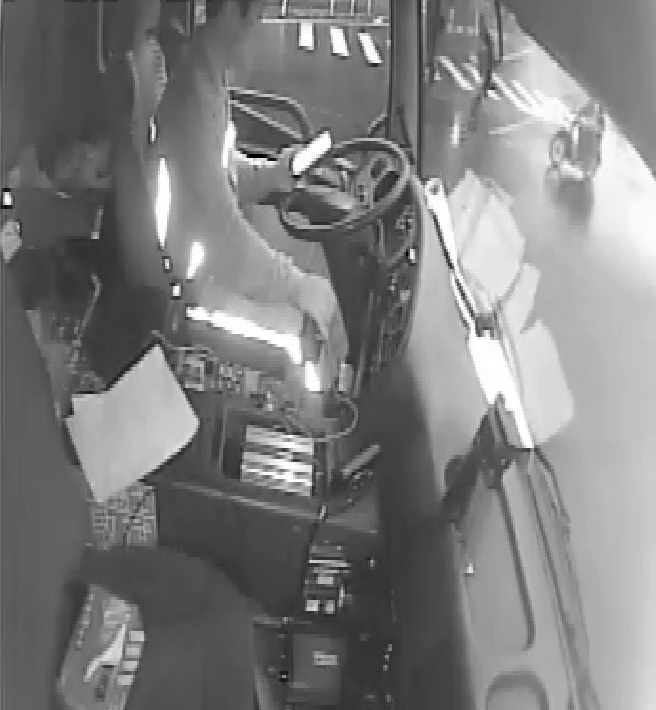cellphone: (288, 124, 335, 179)
